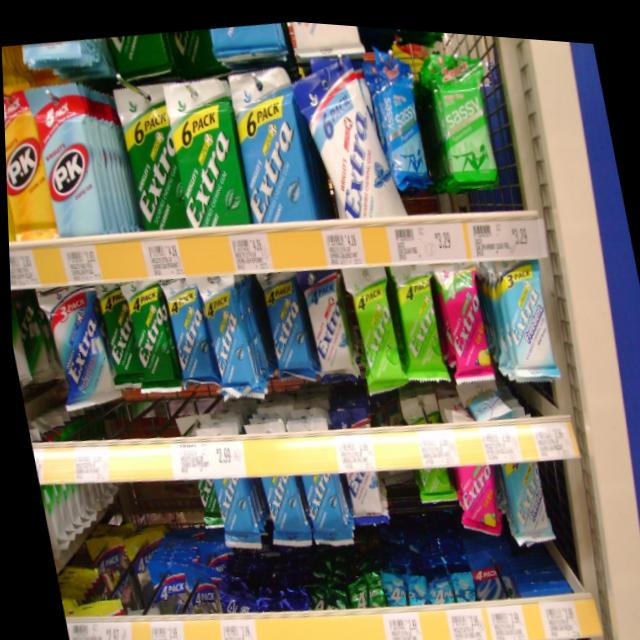q94: (297, 59, 401, 223), (295, 266, 364, 382)
